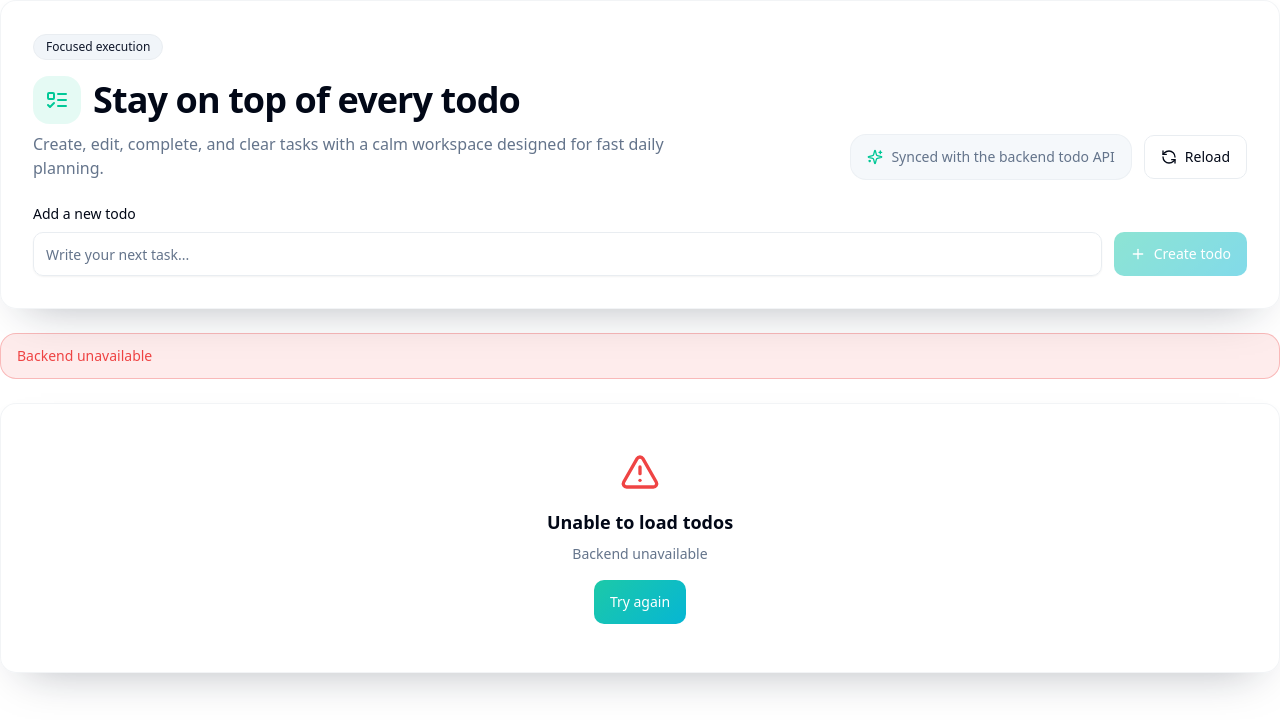
it: TodoPage › shows an error state when loading fails and retries on demand
Check: the heading "Unable to load todos" is shown, box top-left (547, 508), bottom-right (733, 536)
Step 1. Click the button "Try again" → (640, 602), box top-left (594, 580), bottom-right (686, 624)
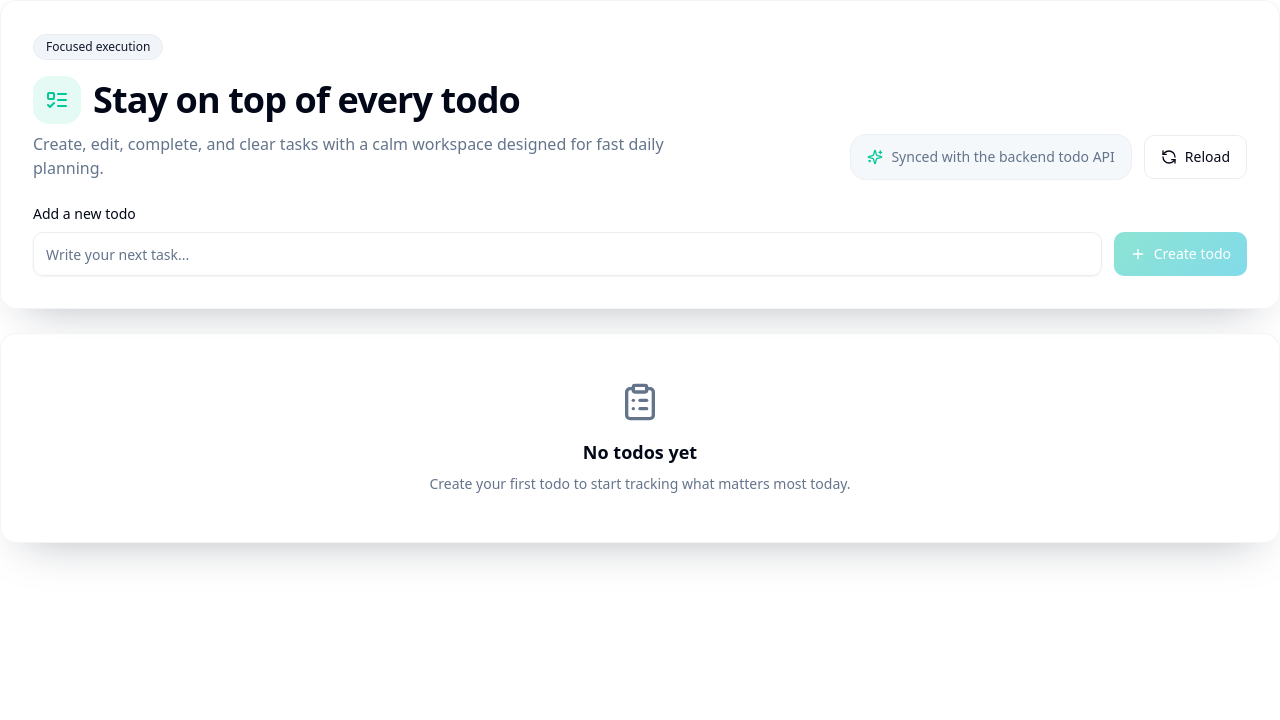
Check: the heading "No todos yet" is shown, box top-left (583, 440), bottom-right (697, 464)
